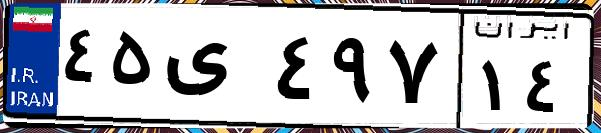1: (475, 38, 525, 113)
4: (270, 28, 330, 110), (57, 26, 110, 100), (525, 38, 570, 115)
5: (110, 28, 158, 98)
7: (385, 28, 445, 110)
9: (330, 28, 385, 110)
ی: (158, 20, 270, 120)
